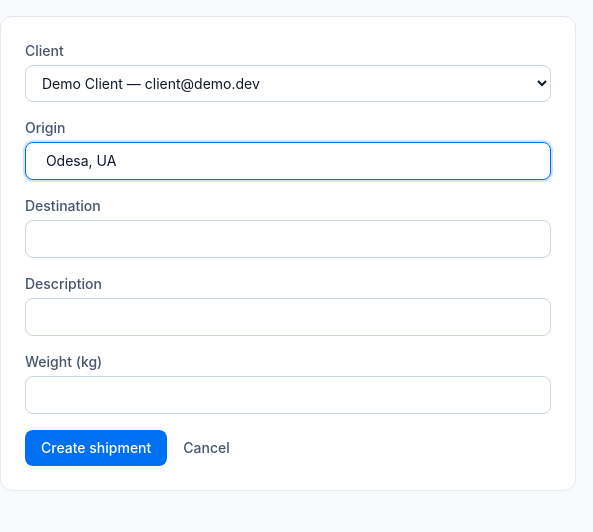
Test: NewShipmentForm › rejects the weight 0
Earlier steps of the test are not shown.
Click the field labelled "Destination".
click(288, 239)  # box 25,220 -> 551,258
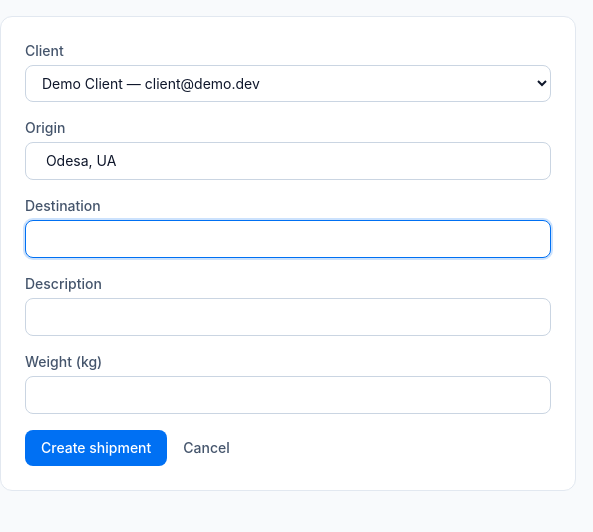
Type keys "Kharkiv, UA"
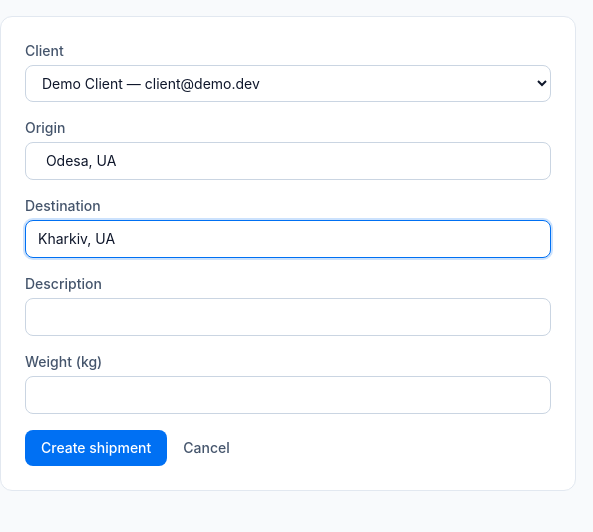
Click the field labelled "Description".
click(288, 317)  # box 25,298 -> 551,336
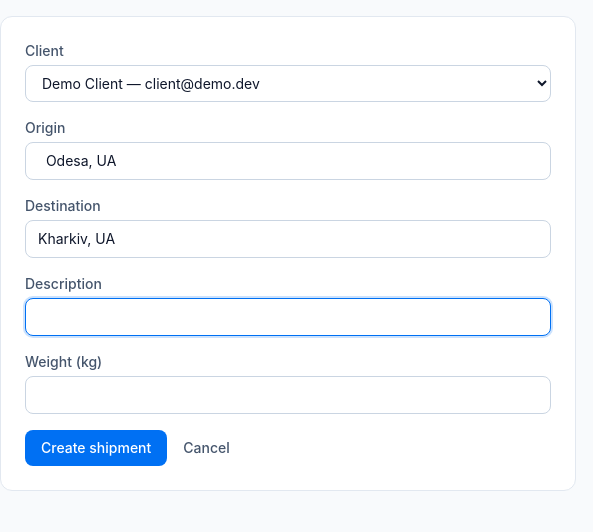
Type keys "Box of spare machine parts"
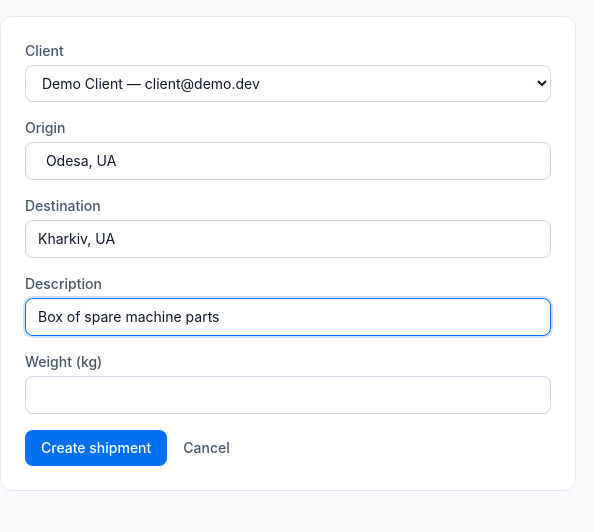
Type "0" into the number field labelled "Weight (kg)".
click(288, 395); type("0")  # box 25,376 -> 551,414
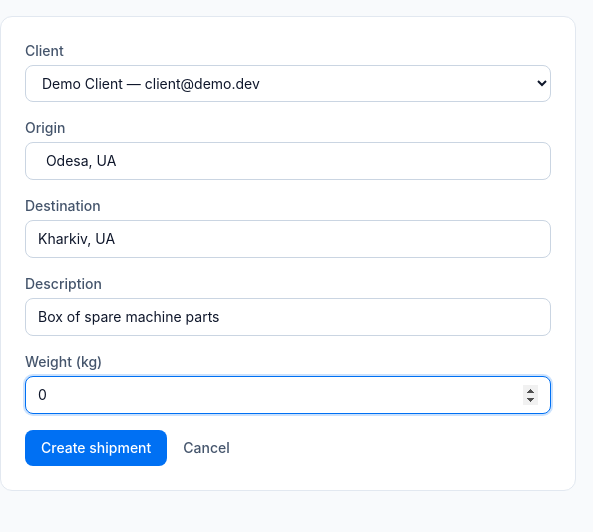
Click the button "Create shipment".
click(96, 448)  # box 25,430 -> 167,466
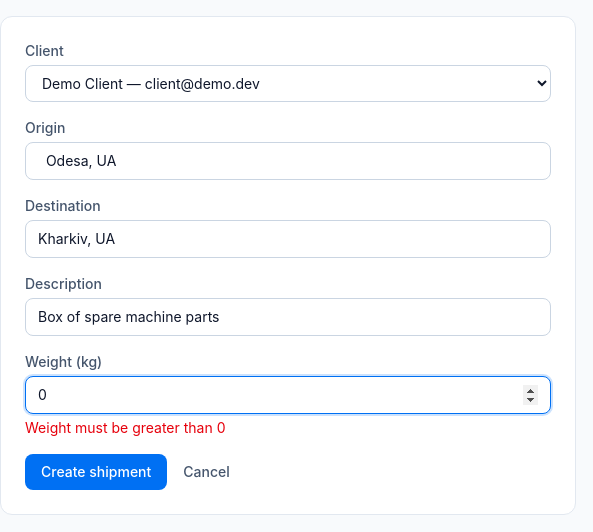
Expected: the message reads "Weight must be greater than 0", 25,419 -> 226,436
